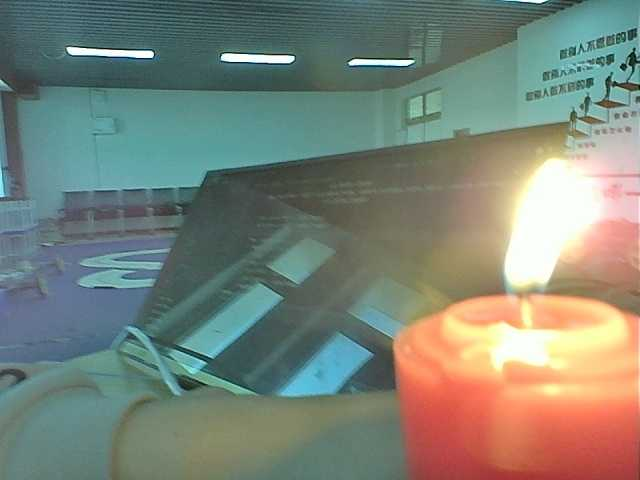candle: (387, 291, 640, 480)
fire: (492, 149, 600, 327)
